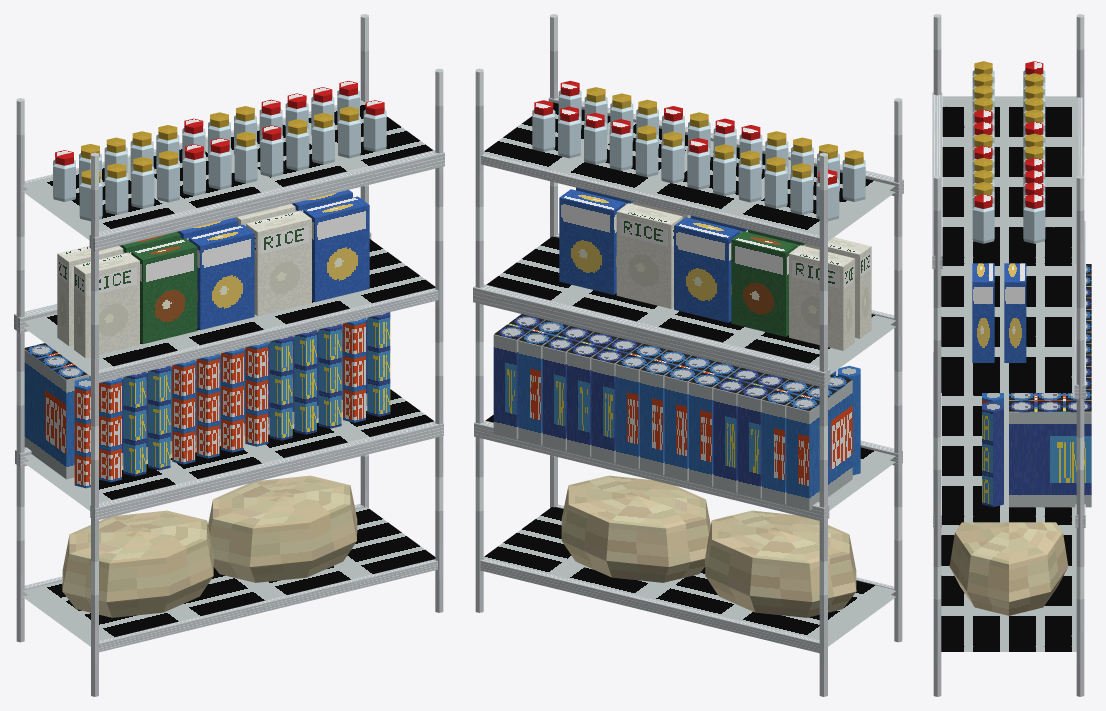
Rendered from WireRack_Normal.fbx.
3 views of the same model, side by side, from view 1: azimuth 30°, elevation 25°; view 2: azimuth 150°, elevation 25°; view 3: azimuth 270°, elevation 25° (orthographic). The views are drawn at different scales.
Parts seen in each view (by area): view 1: WireRack.001; view 2: WireRack.001; view 3: WireRack.001.
Part boxes in pixels (left/top/right/bottom): WireRack.001: left=14, top=14, right=444, bottom=696; WireRack.001: left=473, top=14, right=903, bottom=696; WireRack.001: left=932, top=14, right=1091, bottom=696.
Bounding box in the file's own units: 123 × 180 × 50.1.
